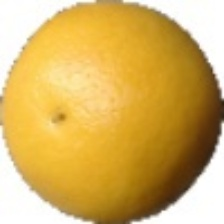grapes: (38, 43, 214, 190)
